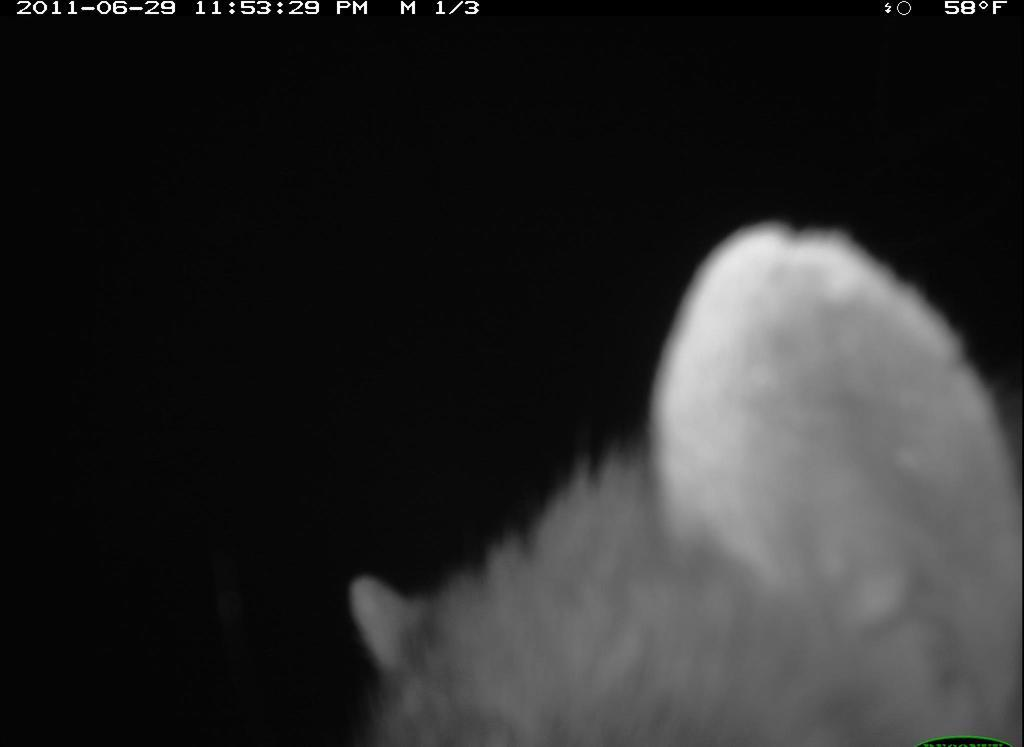raccoon: (317, 222, 1022, 747)
